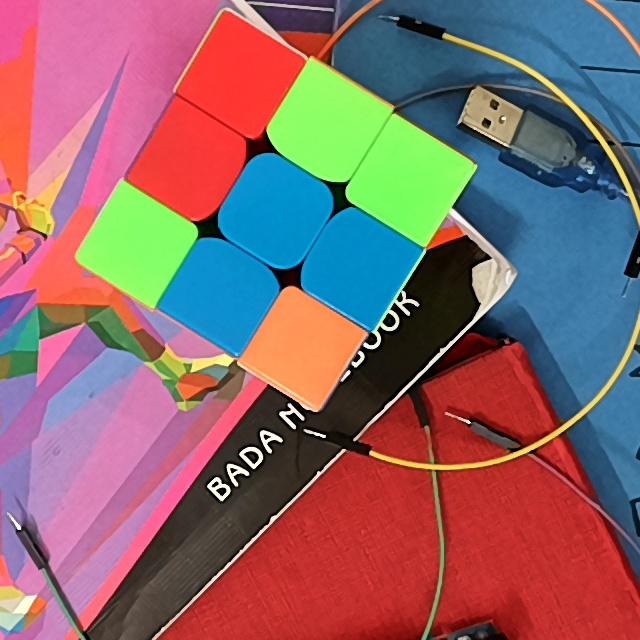tile: (324, 233, 395, 298), (292, 93, 361, 159), (156, 130, 224, 194), (375, 149, 444, 212), (243, 177, 308, 243), (205, 49, 274, 111), (187, 260, 256, 321), (269, 318, 338, 377), (102, 216, 166, 278)
